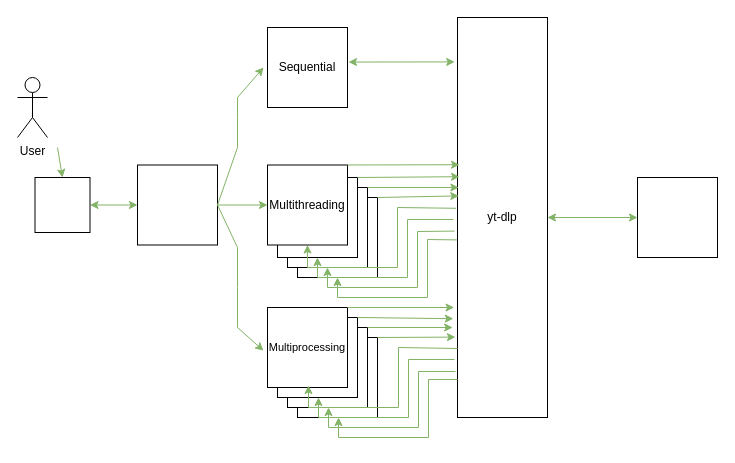
The diagram is 735 pixels wide and 463 high, and some of its shapes have lost their labels. The centre of each missing label's shape, as x and y in pixels:
"CLI" goes at [62,204].
"main.py" goes at [177,204].
"YouTube" goes at [677,217].
